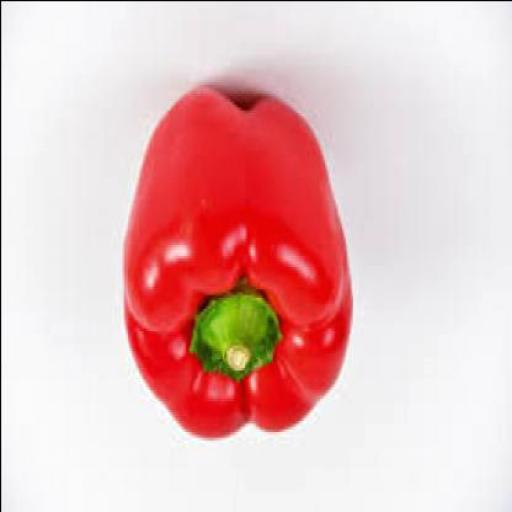biodegradable: (125, 84, 354, 442)
